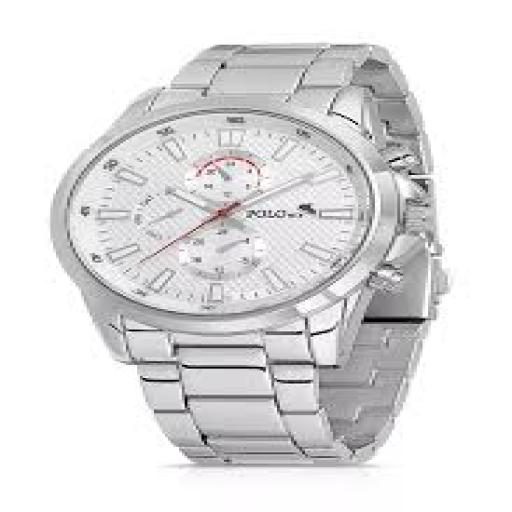KolSaati: (48, 14, 488, 492)
